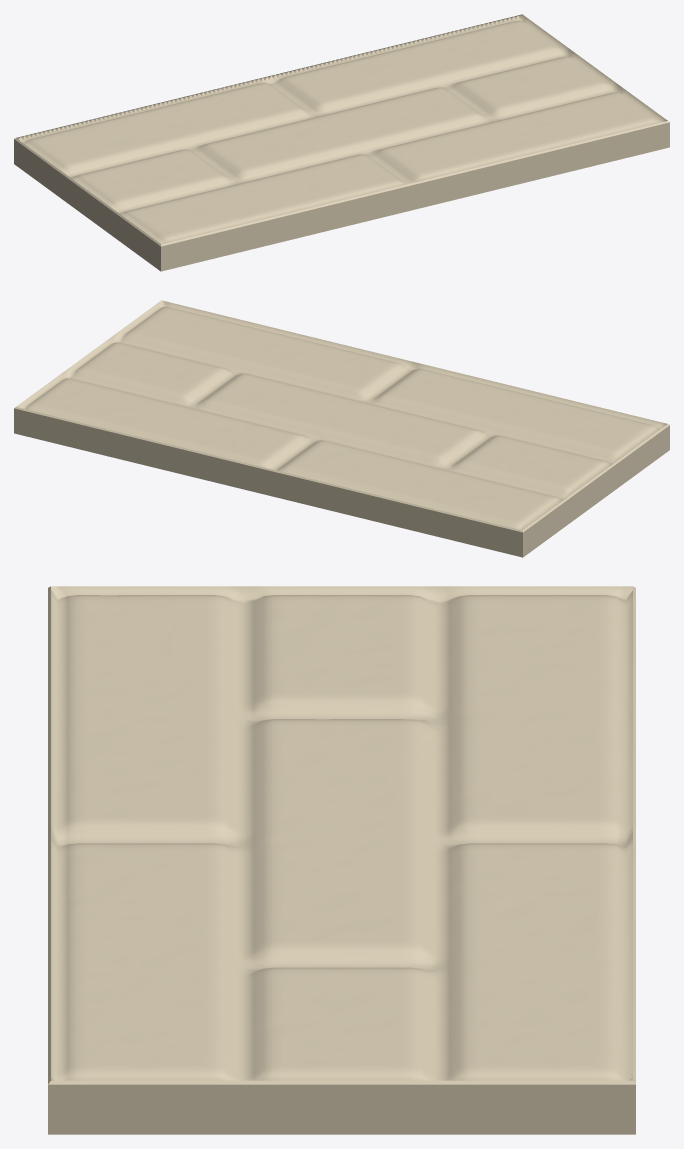
Rendered from mahsulot.glb.
3 views of the same model, one above another, from view 1: azimuth 30°, elevation 25°; view 2: azimuth 150°, elevation 25°; view 3: azimuth 270°, elevation 25° (orthographic). The views are drawn at different scales.
Visible parts, largest first — view 1: mahsulot; view 2: mahsulot; view 3: mahsulot.
Part boxes in pixels (box(x1,y1,x2,y2)): mahsulot: box(14, 14, 669, 271); mahsulot: box(14, 300, 669, 557); mahsulot: box(48, 586, 635, 1134).
Bounding box in the file's own units: 0.6 × 0.0298 × 0.3.
